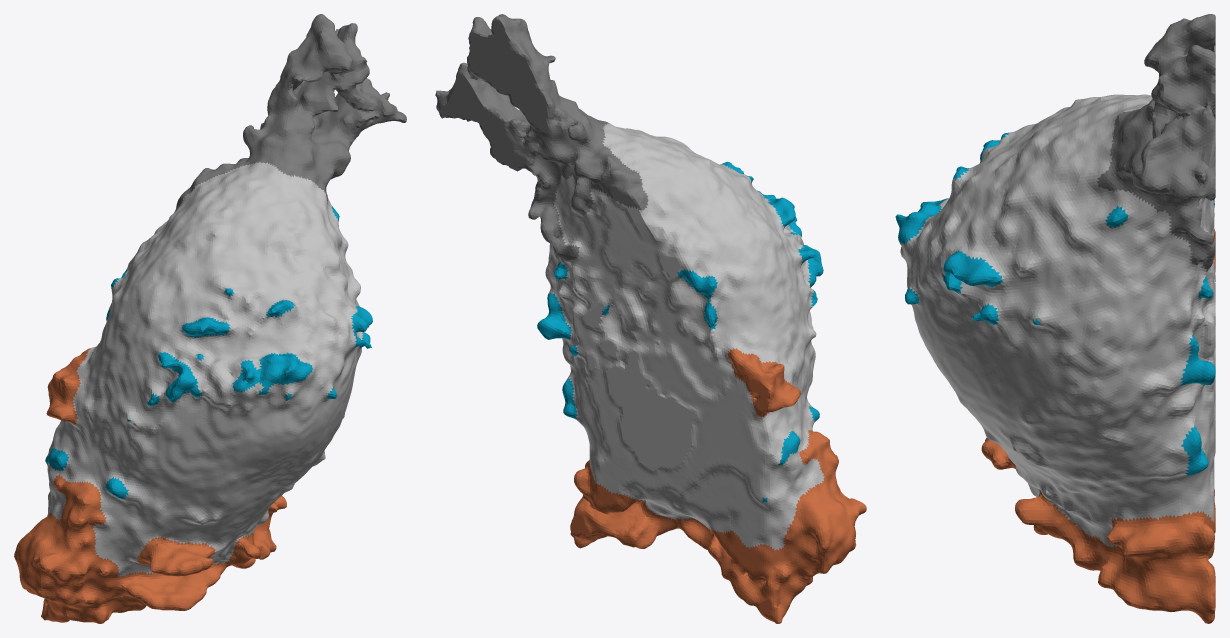
The picture shows the model from 3 angles, left to right: view 1: azimuth 30°, elevation 25°; view 2: azimuth 150°, elevation 25°; view 3: azimuth 270°, elevation 25°; orthographic projection. The views are drawn at different scales.
Size of the model in its own units: 138 by 181 by 75.44.
